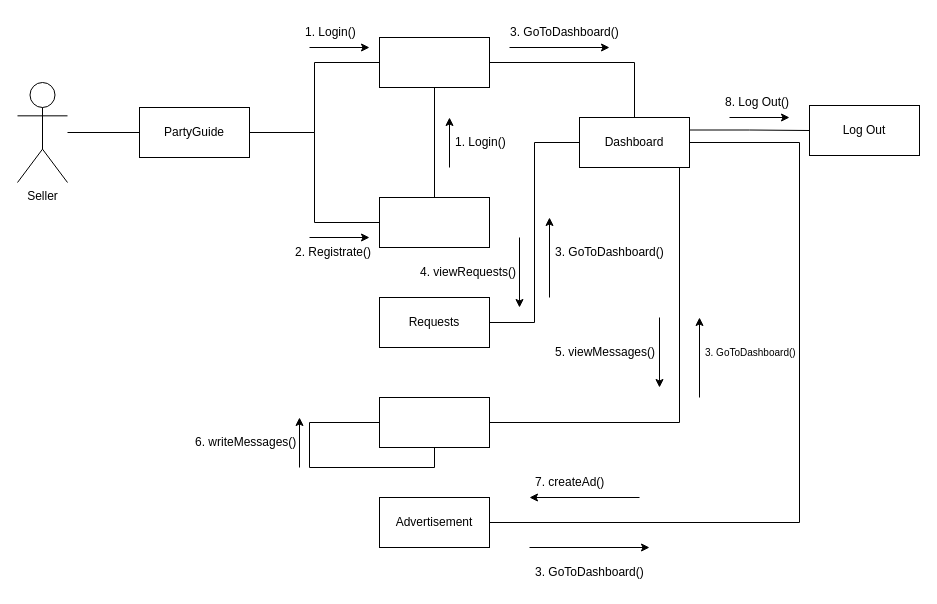
The diagram is 937 pixels wide and 604 high, and some of its shapes have lost their labels. Each missing label, with the centre of its shape:
"Login" goes at point (434, 62).
"Messages" goes at point (434, 422).
"Registrate" goes at point (434, 222).
